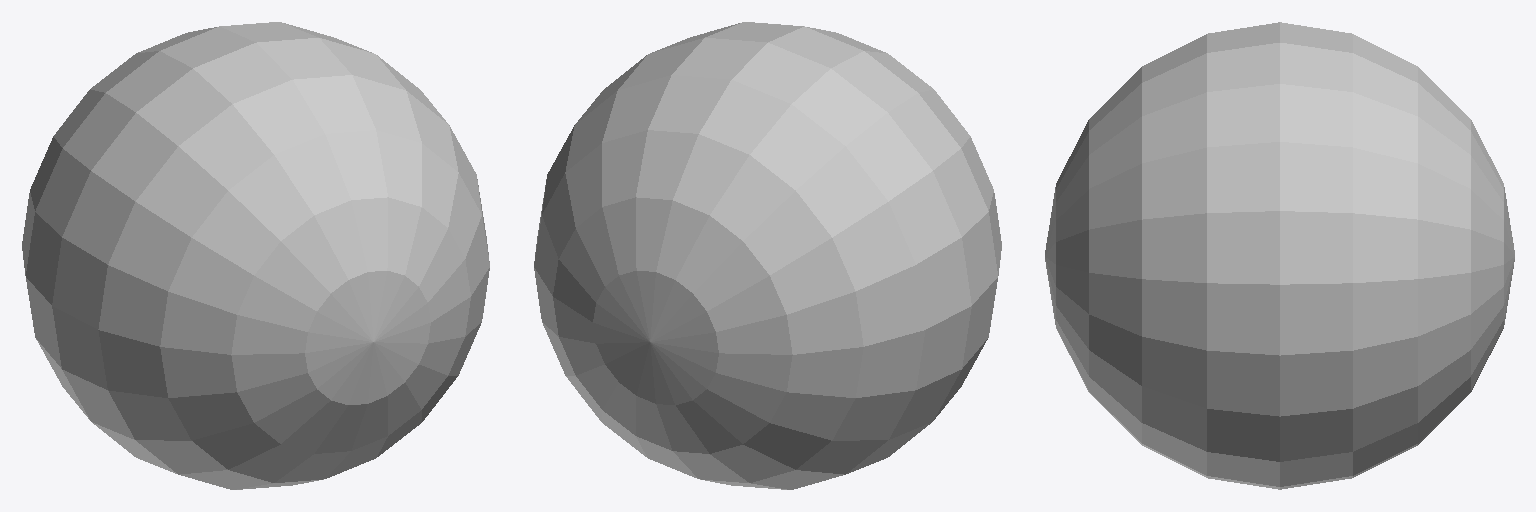
Rendered from unitsphere.obj.
3 renders of one model, left to right at view 1: azimuth 30°, elevation 25°; view 2: azimuth 150°, elevation 25°; view 3: azimuth 270°, elevation 25°, orthographic.
Parts seen in each view (by area): view 1: Object__1; view 2: Object__1; view 3: Object__1.
Part boxes in pixels (bbox=[...]): Object__1: bbox=[22, 22, 489, 489]; Object__1: bbox=[534, 22, 1001, 489]; Object__1: bbox=[1045, 22, 1514, 489].
Size of the model in its own units: 2 by 2 by 2.